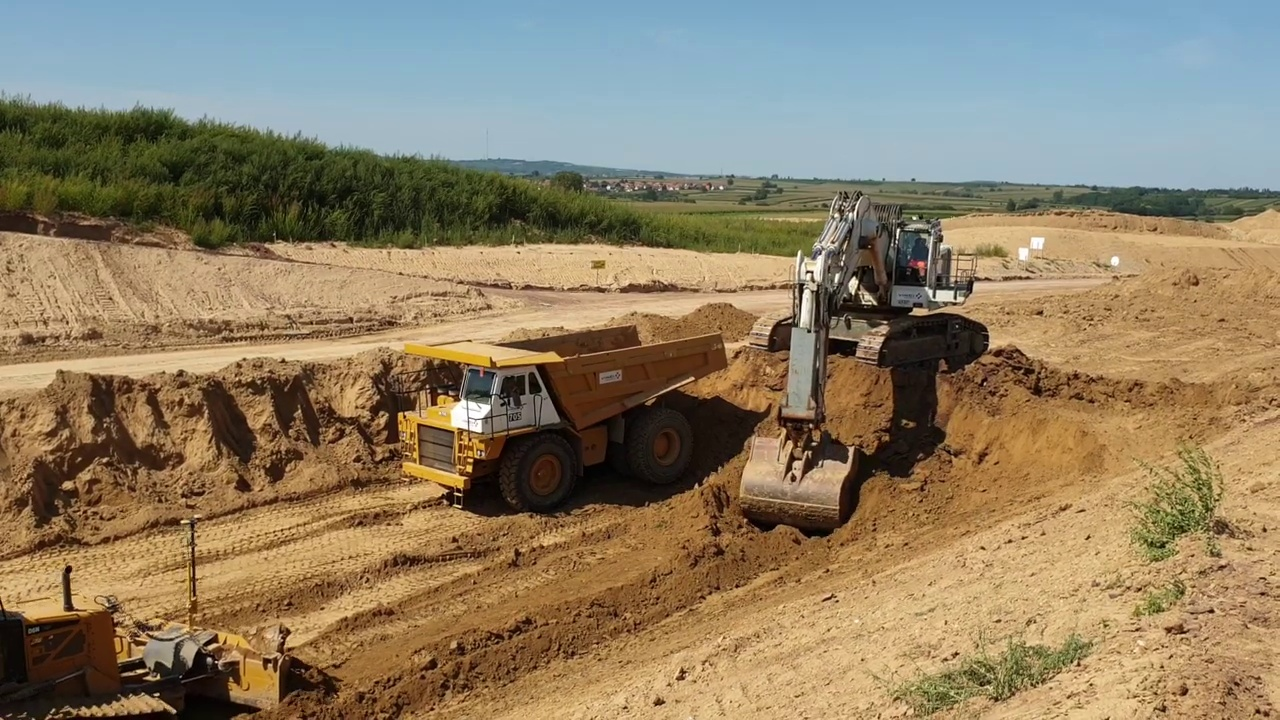bulldozer: (6, 507, 339, 720)
excavator: (736, 183, 994, 537)
truck: (383, 320, 733, 520)
